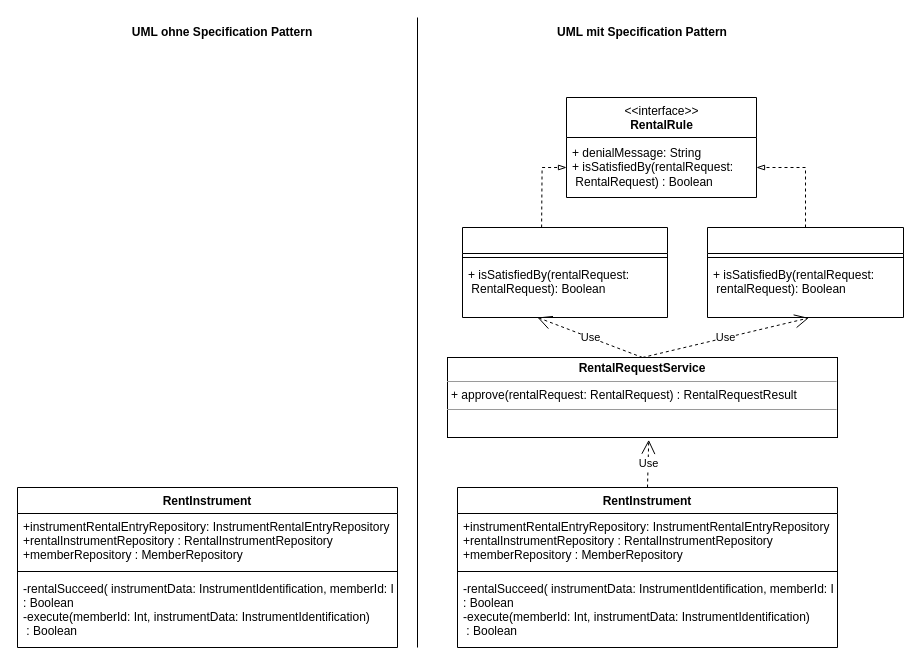
Image size: 921x668. Some labels were removed from this diagram. Here are the shapes that lost their labels. From the top down, the box of each, then its label:
(462, 226, 668, 318): MemberIsActiveRule
(706, 226, 904, 318): EnoughInstrumentsAvailableRule
